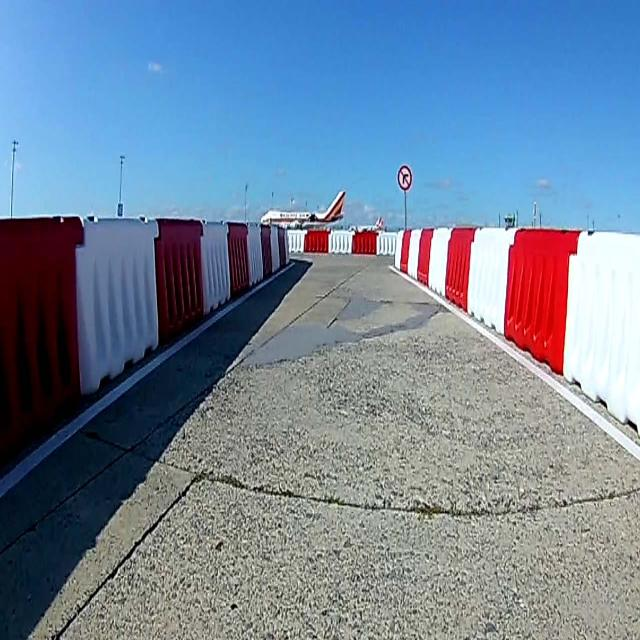sagadonulmez: (397, 165, 412, 191)
